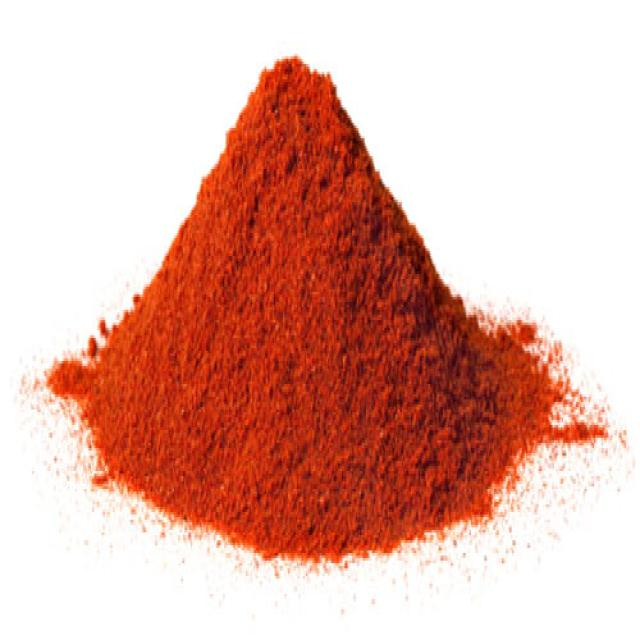Paprika: (42, 42, 610, 587)
